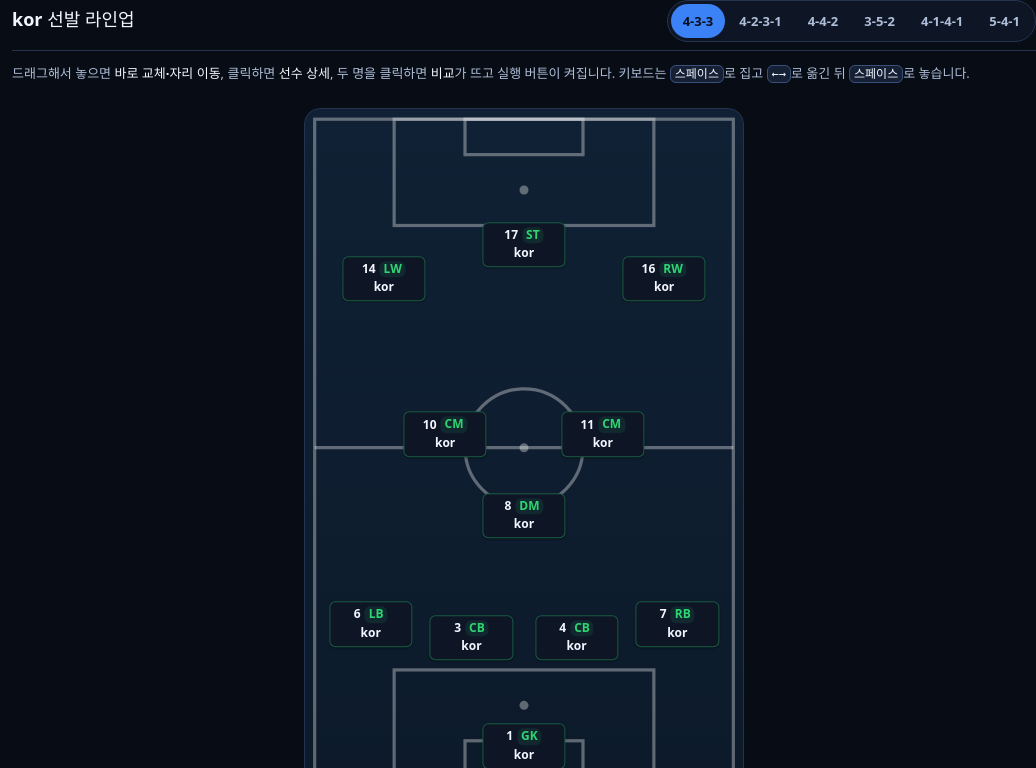
Scenario: 클릭은 교체하지 않는다 — 실수 경로 제거 › 세 번째 클릭은 누적되지 않고 새 선택으로 초기화된다(비교는 항상 2명)
This screenshot has width=1036, height=768.
Click the button with class "lu-chip" showing "1 GK kor": (524, 746) [482,723,566,767]
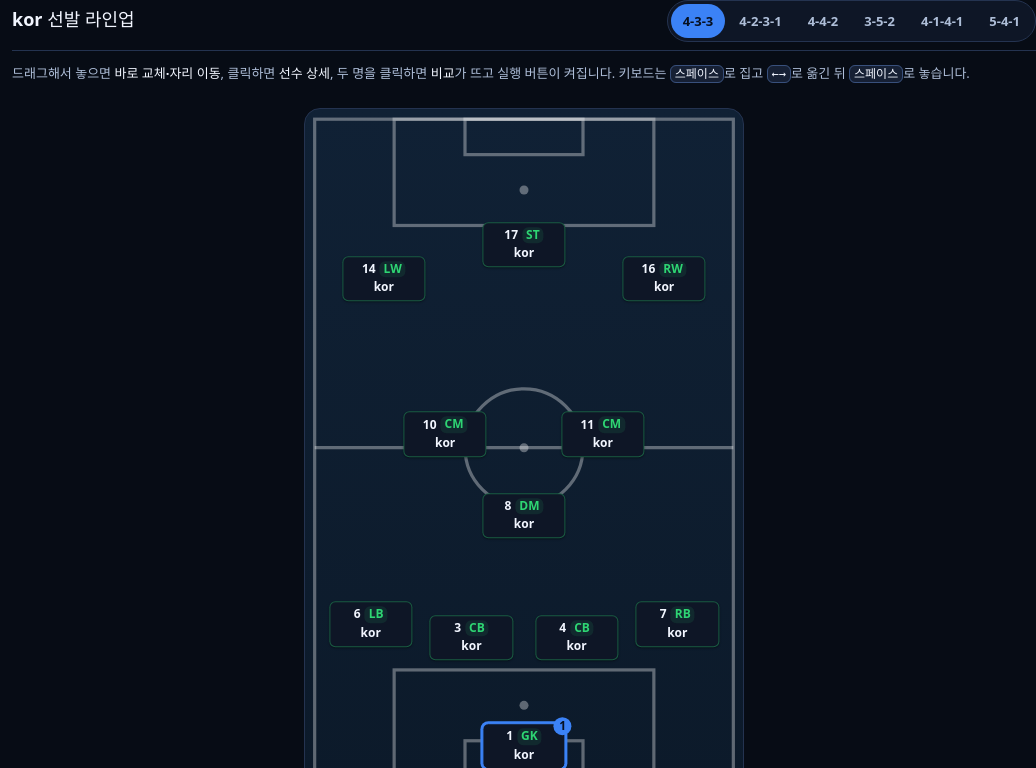
Click the button with class "lu-chip" showing "3 CB kor": (471, 638) [430,615,513,660]
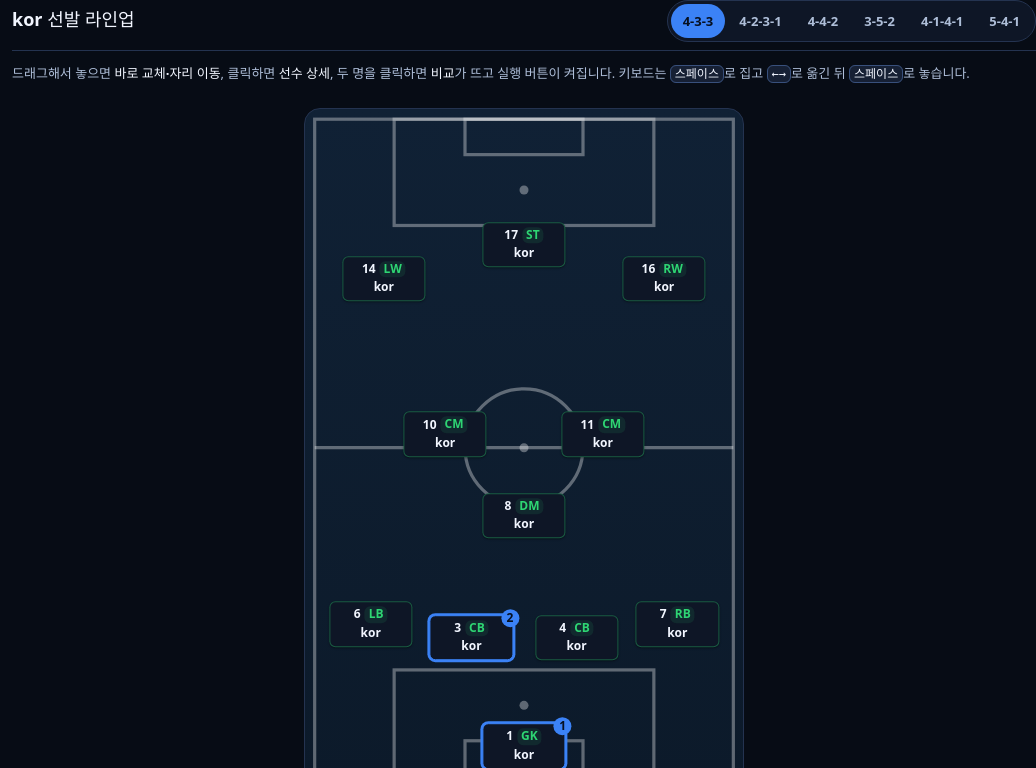
Click the button with class "lu-chip" showing "4 CB kor": (576, 638) [535,615,618,660]
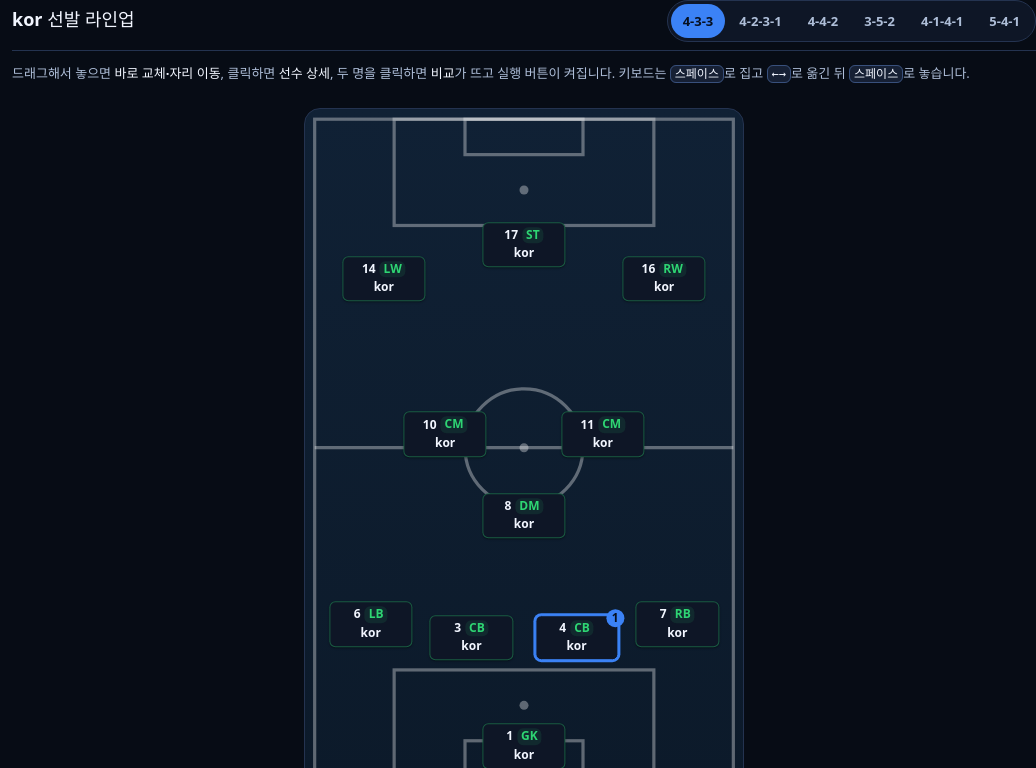
Expected: the number of elements with class "lu-ord" is 1, [606,609,624,627]
